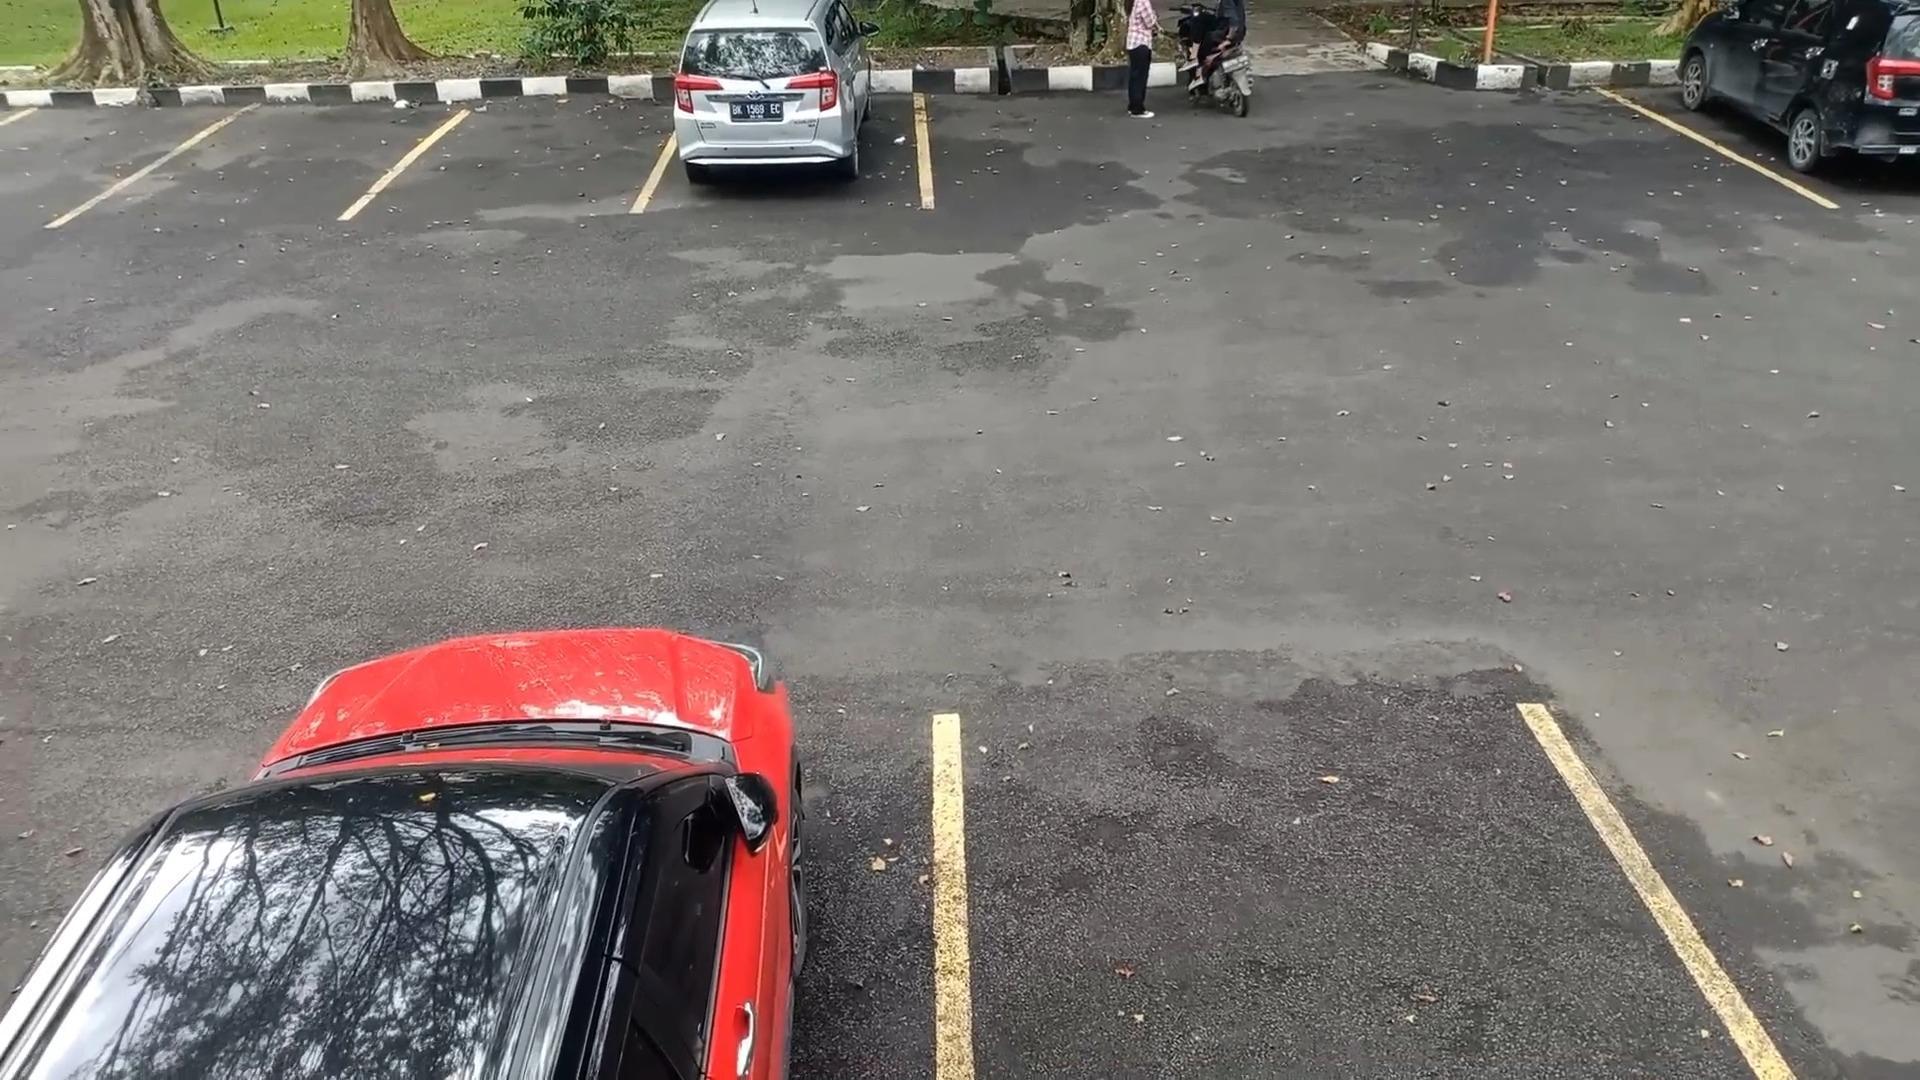empty: (928, 676, 1720, 1080), (400, 48, 662, 214), (129, 62, 386, 228)
occupied: (0, 598, 968, 1080), (1659, 0, 1919, 207), (649, 32, 932, 207)
